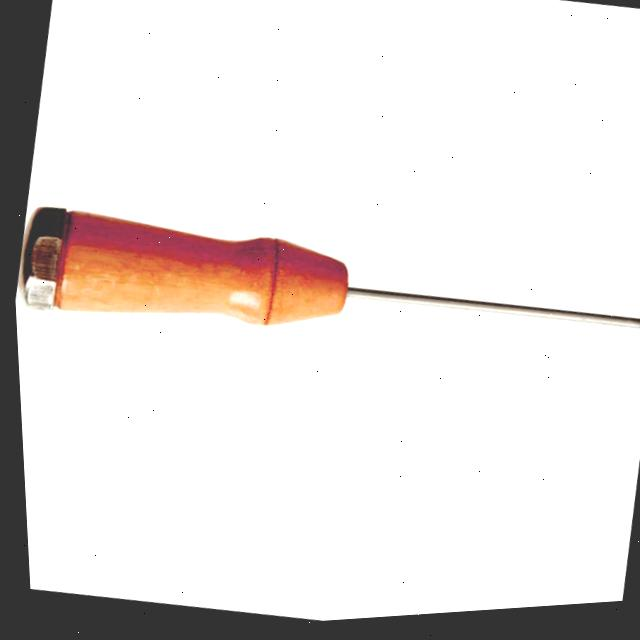ice pick: (8, 171, 640, 420)
